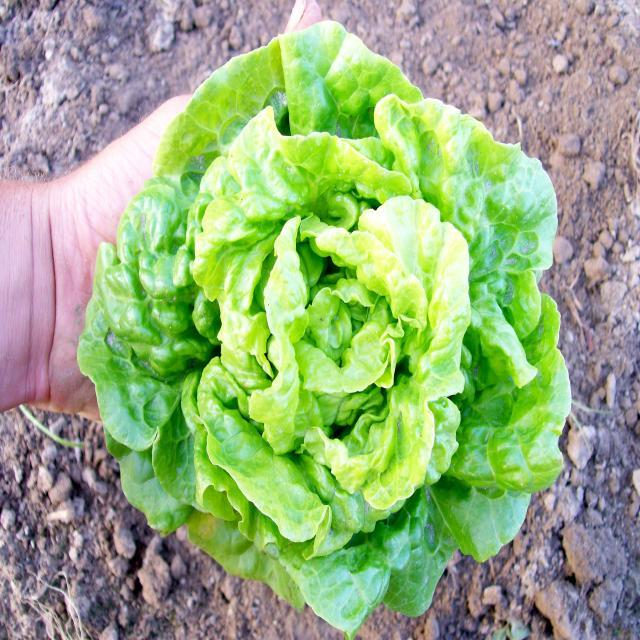Lettuce-Ready-to-Harvest: (93, 37, 573, 636)
